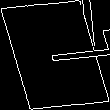L_W: (8, 35, 102, 75)
